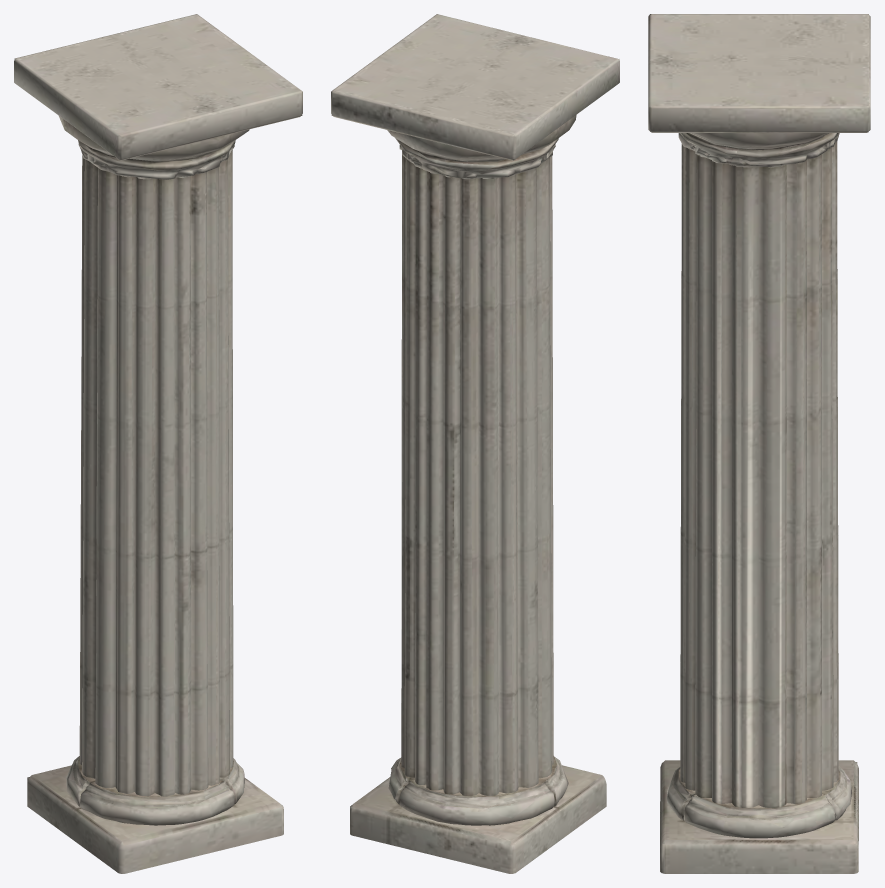
Rendered from marble_column.glb.
3 views of the same model, side by side, from view 1: azimuth 30°, elevation 25°; view 2: azimuth 150°, elevation 25°; view 3: azimuth 270°, elevation 25° (orthographic). The views are drawn at different scales.
Parts seen in each view (by area): view 1: marble_column; view 2: marble_column; view 3: marble_column.
Boxes of the visible parts, left/top/right/bottom form: marble_column: left=14, top=14, right=302, bottom=873; marble_column: left=331, top=14, right=619, bottom=873; marble_column: left=648, top=14, right=870, bottom=873.
Size of the model in its own units: 0.9111 by 3.5 by 0.9111.
1 material, 1 textured.
